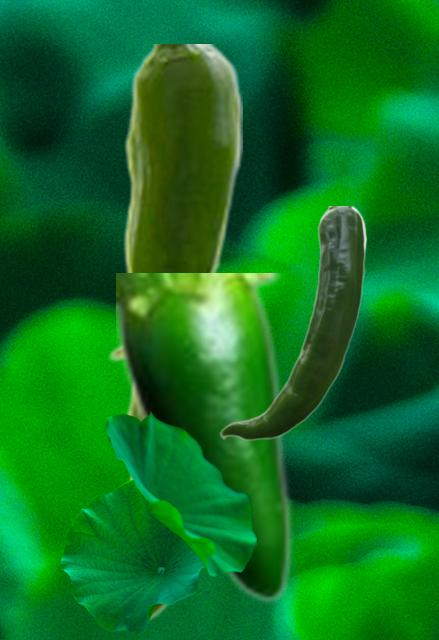green_chili: (116, 273, 292, 603), (106, 44, 241, 362), (219, 206, 366, 440), (120, 386, 176, 628)
